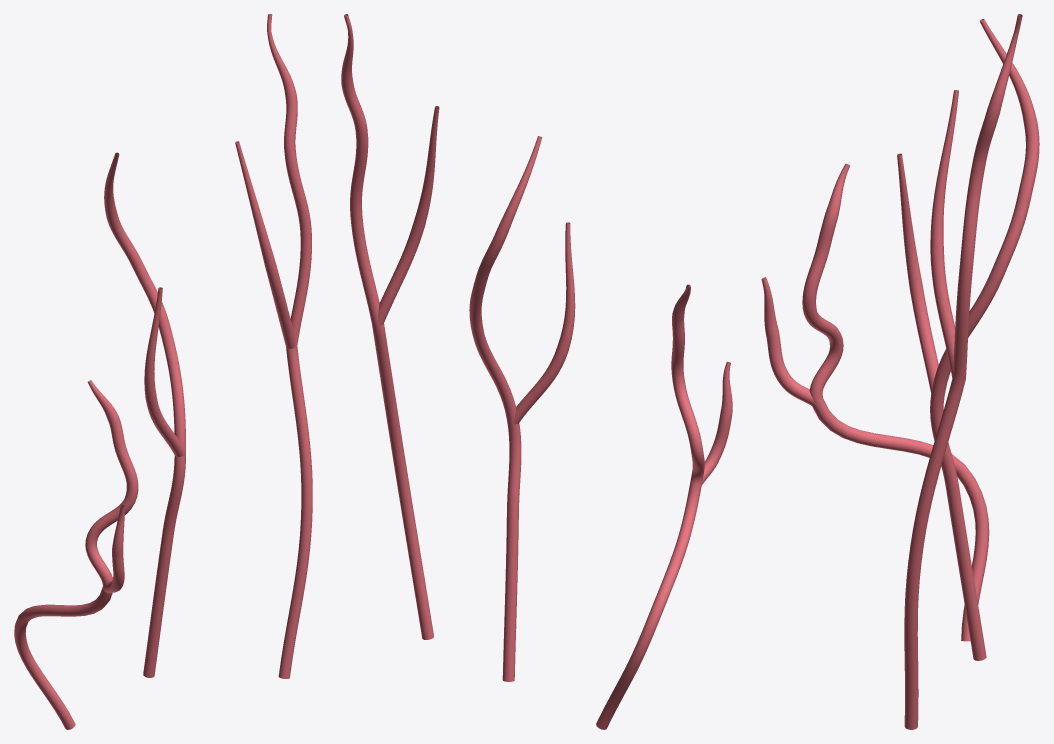
The picture shows the model from 3 angles, left to right: view 1: azimuth 30°, elevation 25°; view 2: azimuth 150°, elevation 25°; view 3: azimuth 270°, elevation 25°; orthographic projection. The views are drawn at different scales.
Visible parts, largest first — view 1: ZA_56e941416bd1feb3; view 2: ZA_56e941416bd1feb3; view 3: ZA_56e941416bd1feb3.
Part boxes in pixels (x1,y1,x2,y2): ZA_56e941416bd1feb3: (14, 14, 312, 729); ZA_56e941416bd1feb3: (341, 14, 732, 729); ZA_56e941416bd1feb3: (761, 14, 1039, 729).
Size of the model in its own units: 0.00586 by 0.0122 by 0.00407.
